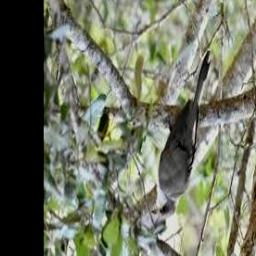Cuckoo: (152, 51, 211, 218)
